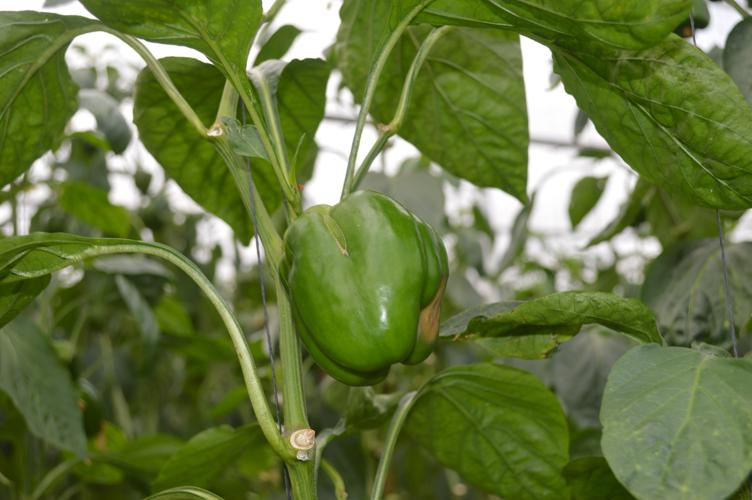BellPepper: (279, 191, 451, 380)
